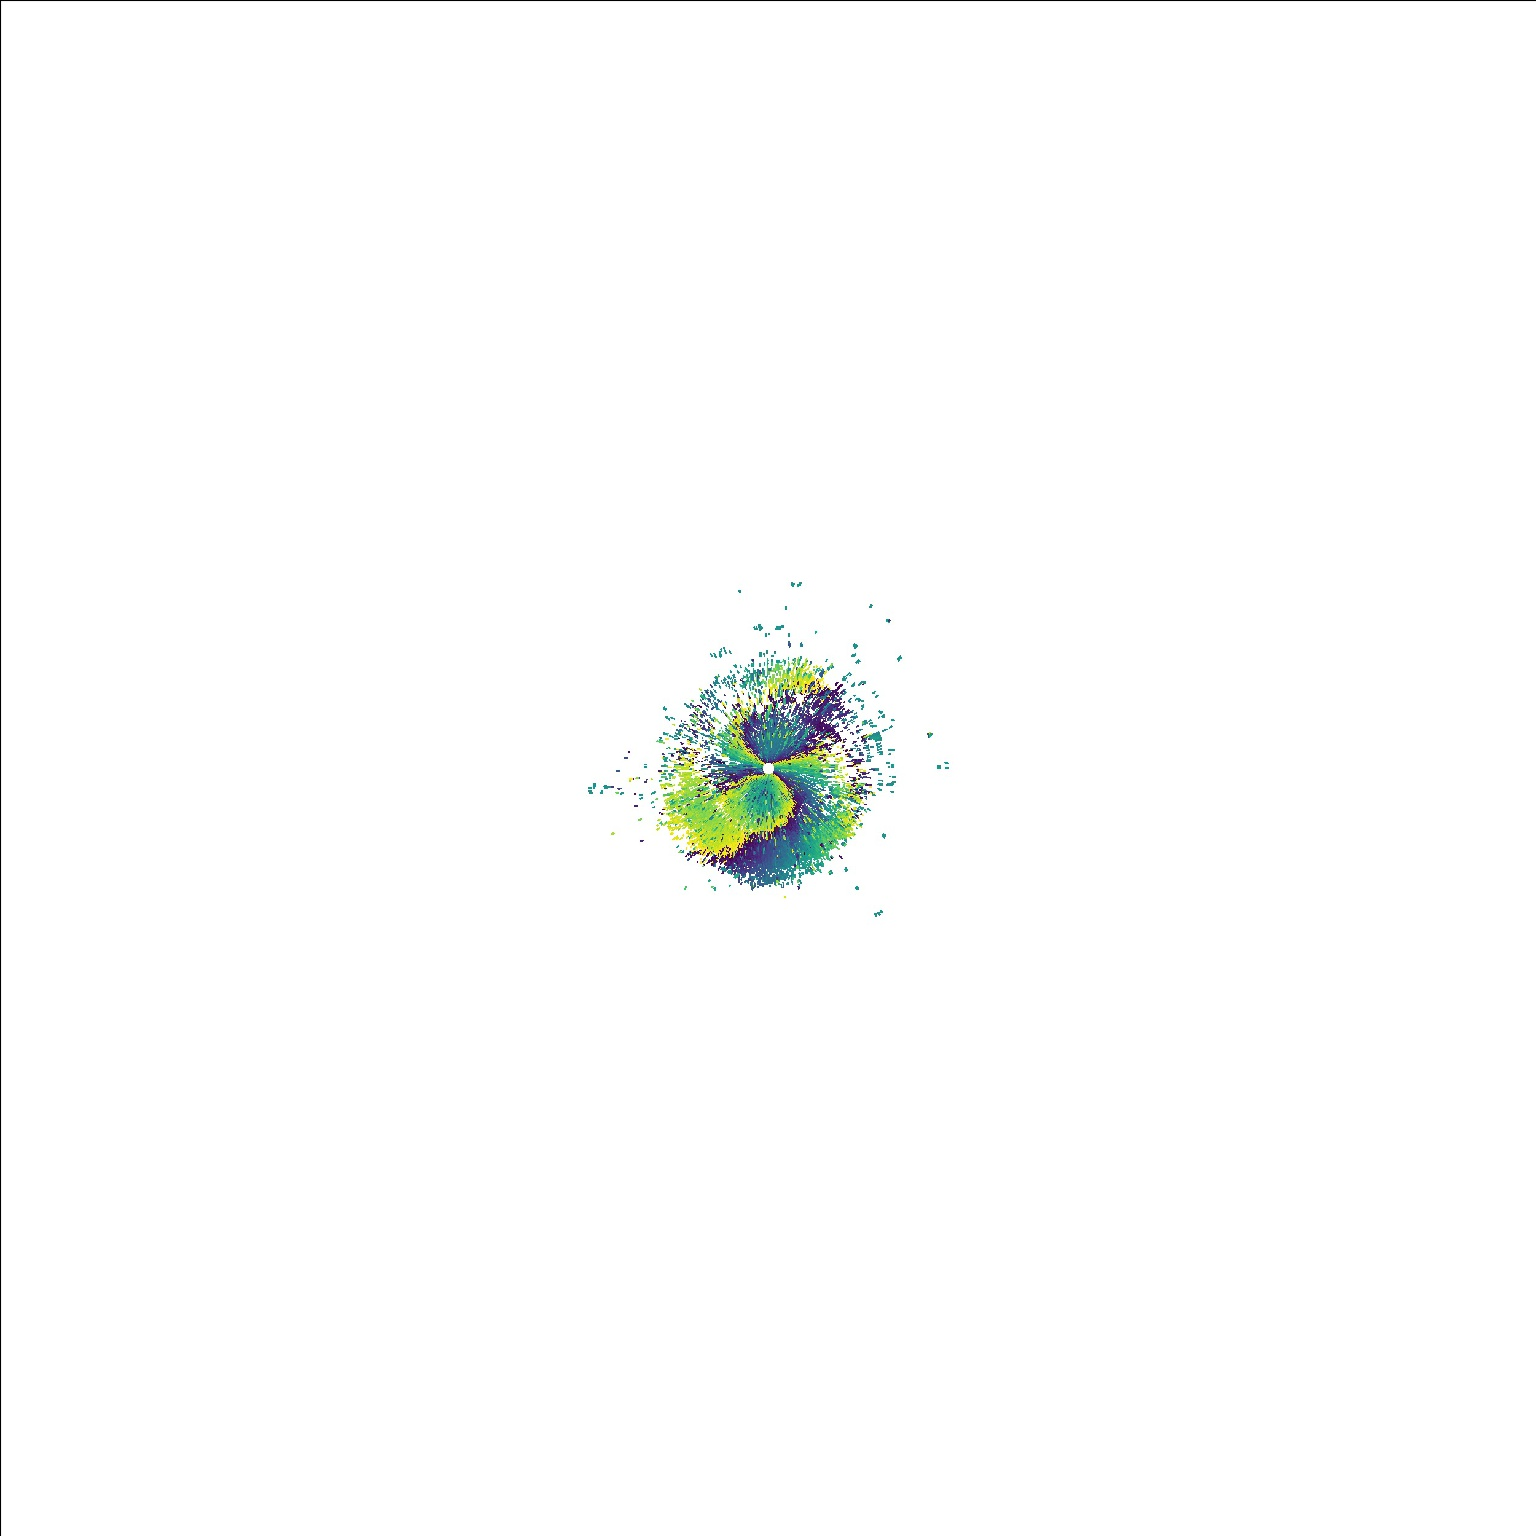fall: (919, 724, 940, 743)
